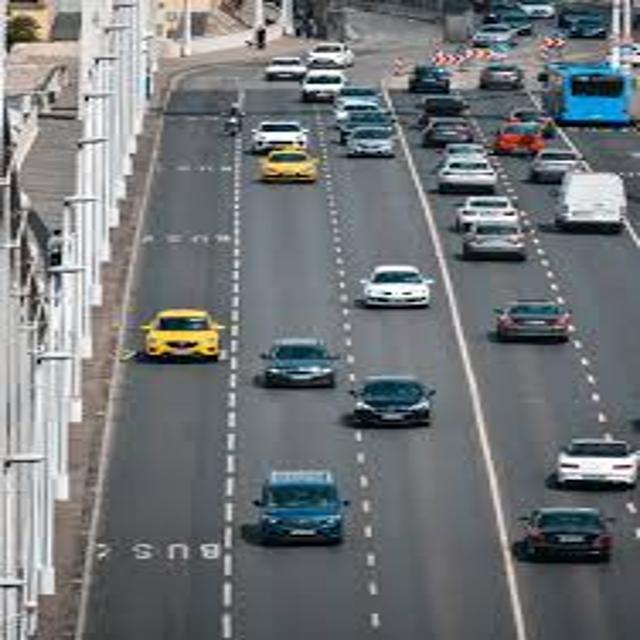car: (252, 472, 353, 543), (518, 508, 616, 557), (549, 171, 627, 230), (348, 375, 438, 426), (553, 437, 640, 487), (140, 309, 224, 359), (260, 340, 341, 384), (360, 265, 435, 305), (495, 300, 571, 337), (463, 222, 528, 256), (436, 158, 500, 189), (258, 151, 320, 178), (454, 197, 522, 221), (345, 127, 398, 154)
